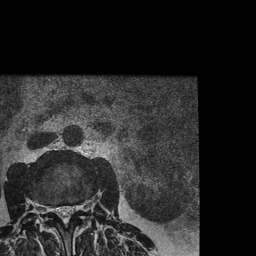CCS_normal: (61, 200, 69, 232)
LFS_stenosis: (76, 198, 82, 216)
LLS_normal: (69, 201, 75, 221)
RFS_stenosis: (47, 200, 54, 218)
RLS_stenosis: (54, 201, 61, 224)
